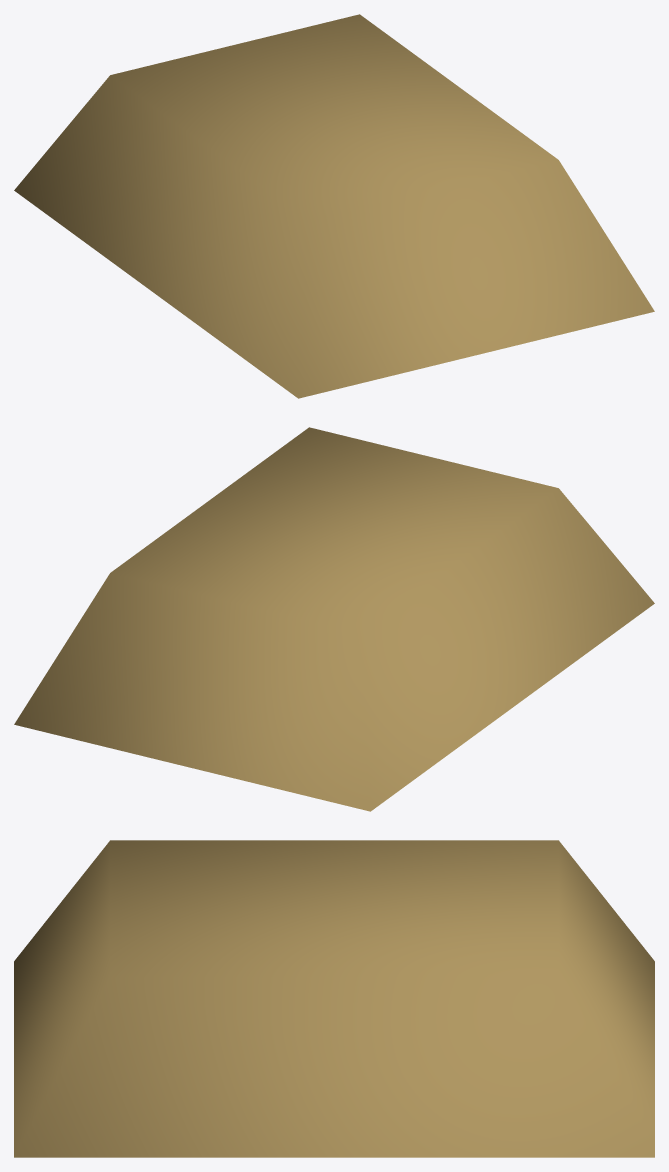
File: Gold_Bar.fbx
The picture shows the model from 3 angles, top to bottom: view 1: azimuth 30°, elevation 25°; view 2: azimuth 150°, elevation 25°; view 3: azimuth 270°, elevation 25°; orthographic projection. The views are drawn at different scales.
Parts seen in each view (by area): view 1: Model; view 2: Model; view 3: Model.
Boxes of the visible parts, left/top/right/bottom form: Model: left=14, top=14, right=654, bottom=398; Model: left=14, top=427, right=654, bottom=811; Model: left=14, top=840, right=654, bottom=1157.
Size of the model in its own units: 74.19 by 26.54 by 102.
